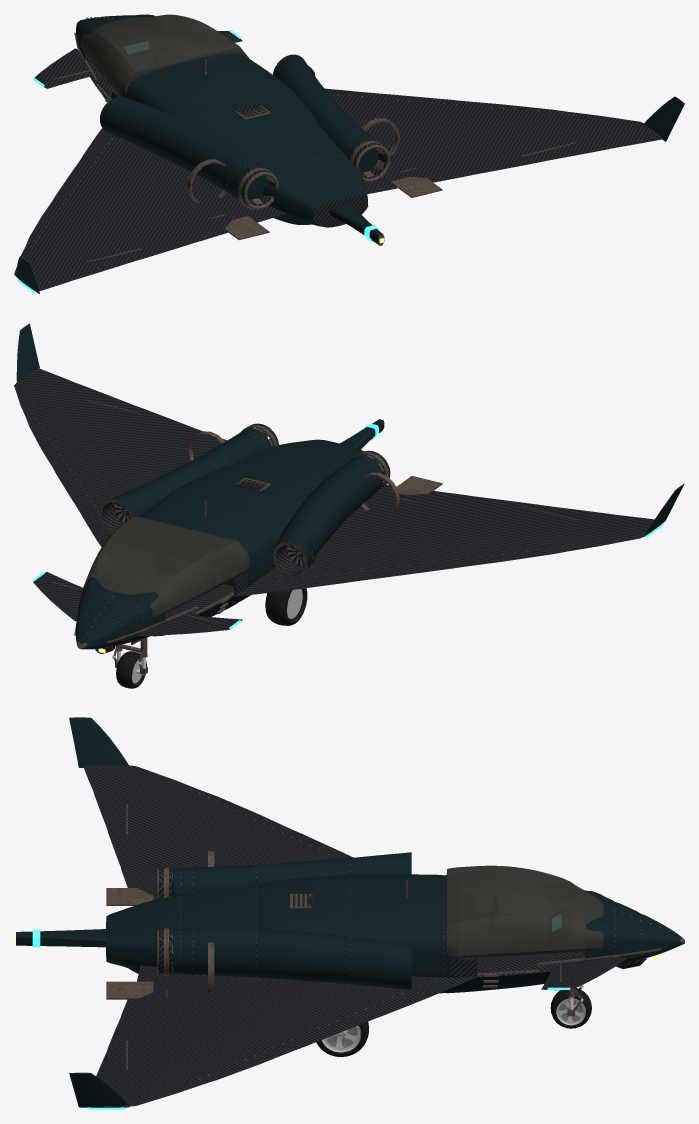
3 views of the same model, one above another, from view 1: azimuth 30°, elevation 25°; view 2: azimuth 150°, elevation 25°; view 3: azimuth 270°, elevation 25° (orthographic). The views are drawn at different scales.
Visible parts, largest first — view 1: kb8_core, kb8_wing_l, kb8_wing_r, kb8_canard_l; view 2: kb8_core, kb8_wing_l, kb8_wing_r, kb8_gear_down, kb8_canard_l, kb8_canard_r; view 3: kb8_core, kb8_wing_r, kb8_wing_l, kb8_gear_down, kb8_canard_r.
Boxes of the visible parts, left/top/right/bottom form: kb8_core: left=74, top=14, right=442, bottom=245; kb8_wing_l: left=14, top=128, right=246, bottom=293; kb8_wing_r: left=325, top=88, right=684, bottom=182; kb8_canard_l: left=33, top=48, right=99, bottom=88; kb8_core: left=74, top=419, right=442, bottom=653; kb8_wing_l: left=253, top=483, right=684, bottom=594; kb8_wing_r: left=14, top=323, right=226, bottom=546; kb8_gear_down: left=112, top=588, right=307, bottom=688; kb8_canard_l: left=137, top=612, right=242, bottom=636; kb8_canard_r: left=33, top=572, right=82, bottom=621; kb8_core: left=14, top=851, right=684, bottom=999; kb8_wing_r: left=69, top=979, right=458, bottom=1109; kb8_wing_l: left=69, top=717, right=353, bottom=899; kb8_gear_down: left=316, top=985, right=591, bottom=1056; kb8_canard_r: left=541, top=956, right=627, bottom=990.
Bounding box in the file's own units: 8.96 × 1.71 × 7.14.
15 materials, 8 textured.
